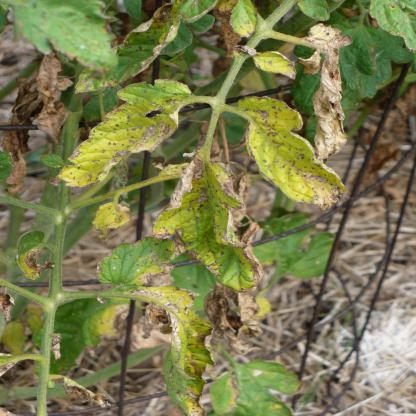tomato septoria leaf spot: (76, 243, 217, 413), (44, 77, 203, 194), (149, 159, 268, 288), (228, 94, 334, 208)
